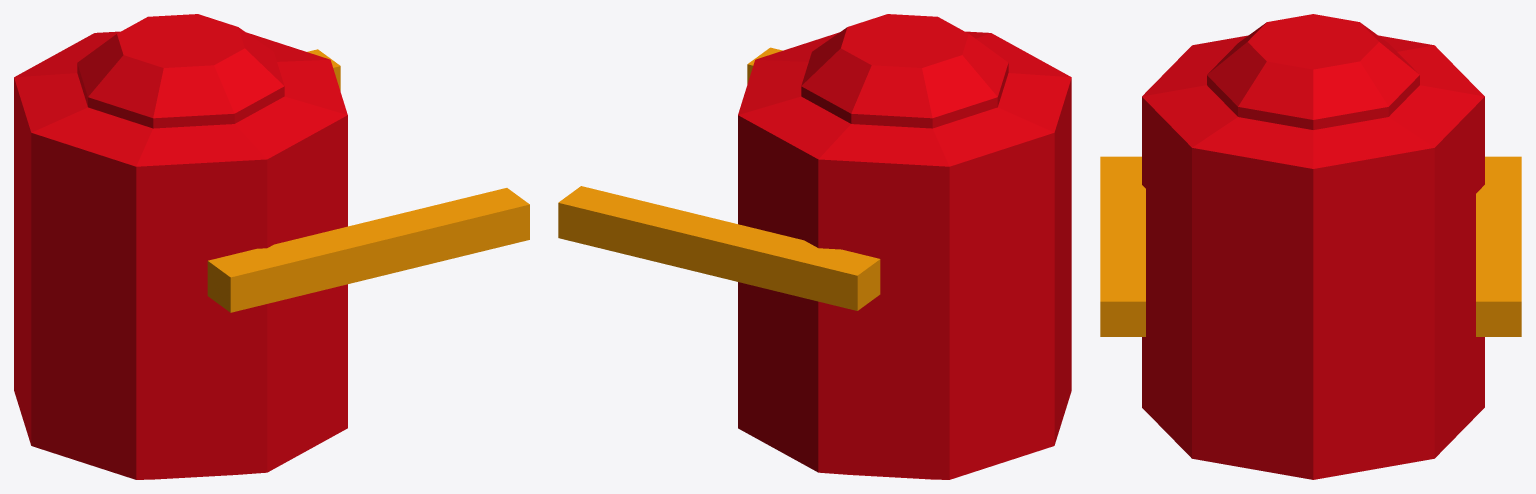
File: robotEnemy.fbx
3 views of the same model, side by side, from view 1: azimuth 30°, elevation 25°; view 2: azimuth 150°, elevation 25°; view 3: azimuth 270°, elevation 25° (orthographic).
Parts seen in each view (by area): view 1: body, arms; view 2: body, arms; view 3: body, arms.
Part boxes in pixels (box(x1,y1,x2,y2)): body: box(14, 14, 347, 479); arms: box(207, 49, 529, 312); body: box(738, 14, 1071, 479); arms: box(558, 47, 880, 310); body: box(1142, 14, 1484, 479); arms: box(1100, 156, 1521, 336).
Bounding box in the file's own units: 262 × 251 × 245.
